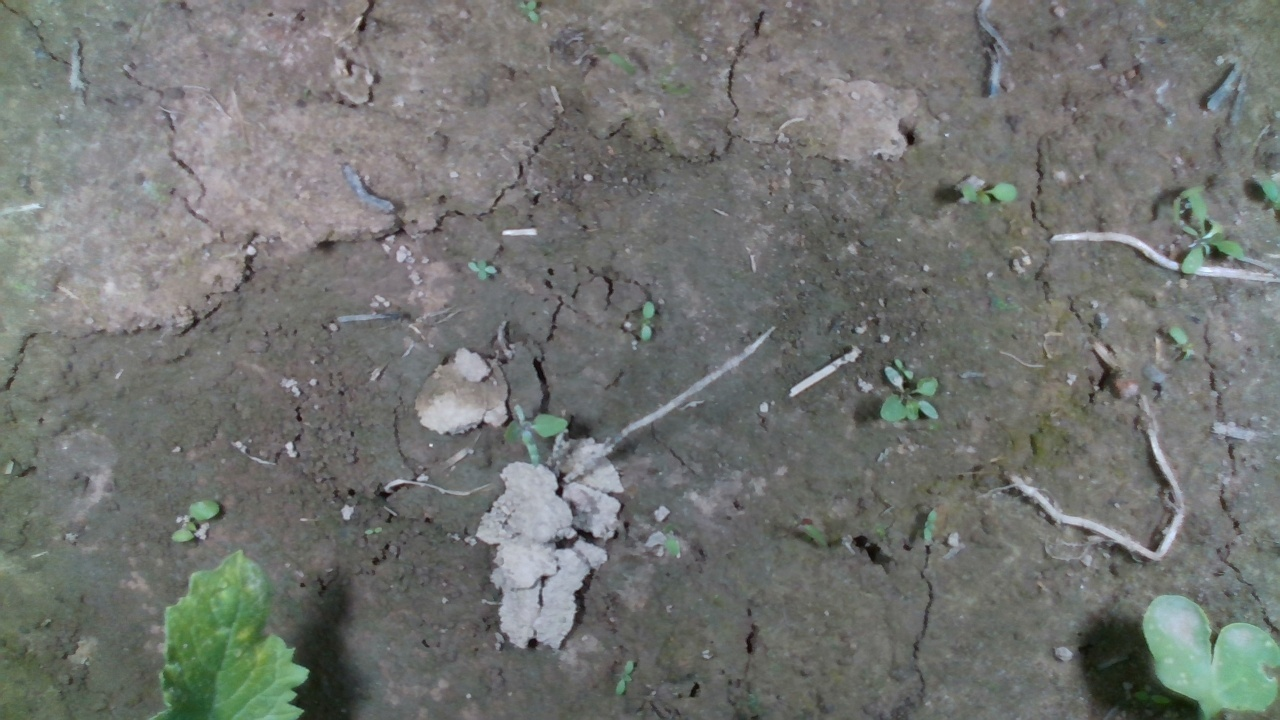weed: (169, 498, 222, 542), (957, 180, 1019, 205), (464, 258, 500, 281), (921, 505, 940, 545), (615, 659, 635, 694), (638, 299, 655, 340)
